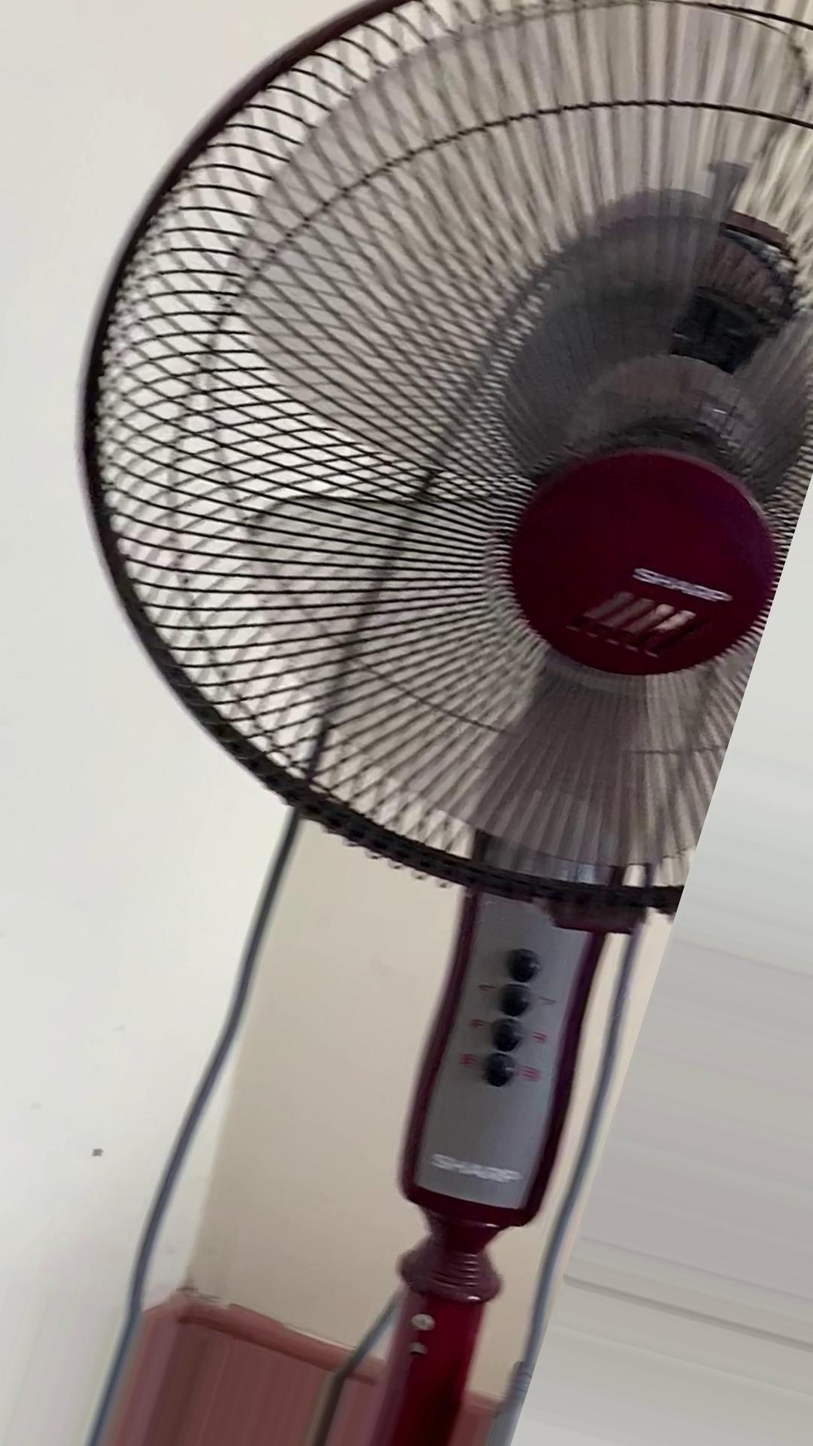fan: (31, 0, 813, 1446)
